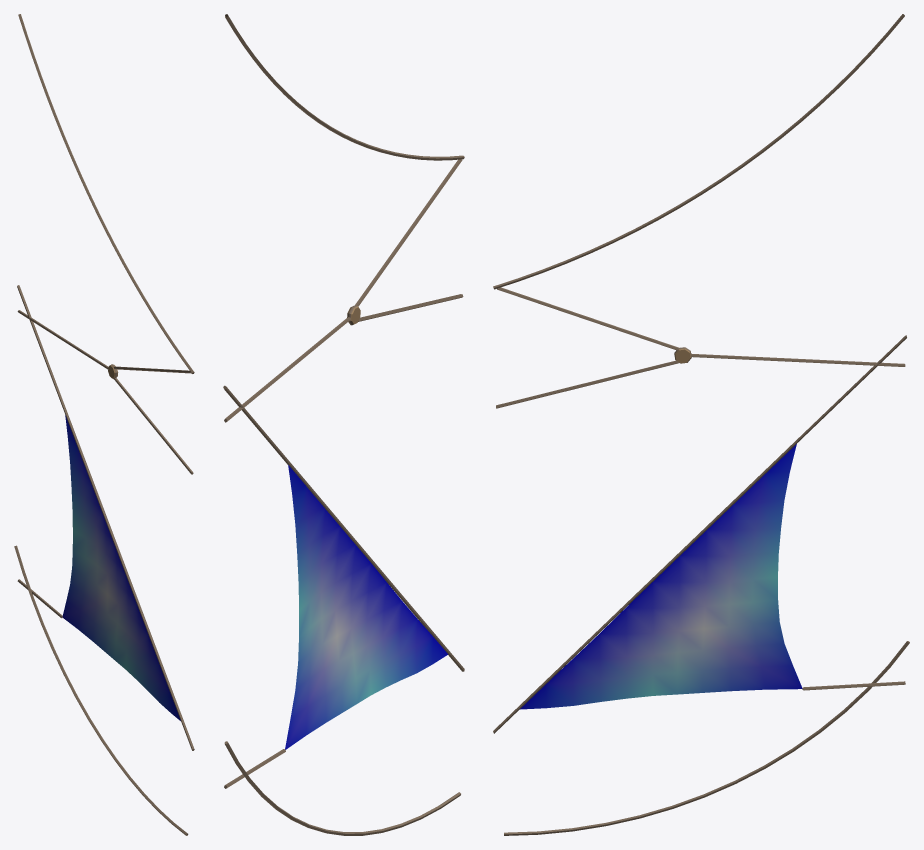
Rendered from SM_Veh_Ship_L_01_Rigging_Middle_01.fbx.
The picture shows the model from 3 angles, left to right: view 1: azimuth 30°, elevation 25°; view 2: azimuth 150°, elevation 25°; view 3: azimuth 270°, elevation 25°; orthographic projection. The views are drawn at different scales.
Parts seen in each view (by area): view 1: SM_Veh_Ship_L_01_Rigging_Middle_01; view 2: SM_Veh_Ship_L_01_Rigging_Middle_01; view 3: SM_Veh_Ship_L_01_Rigging_Middle_01.
Part boxes in pixels (x1=…): SM_Veh_Ship_L_01_Rigging_Middle_01: x1=14, y1=14, x2=194, y2=835; SM_Veh_Ship_L_01_Rigging_Middle_01: x1=223, y1=14, x2=464, y2=835; SM_Veh_Ship_L_01_Rigging_Middle_01: x1=493, y1=14, x2=909, y2=835.
Bounding box in the file's own units: 25.15 × 2332 × 1071.
